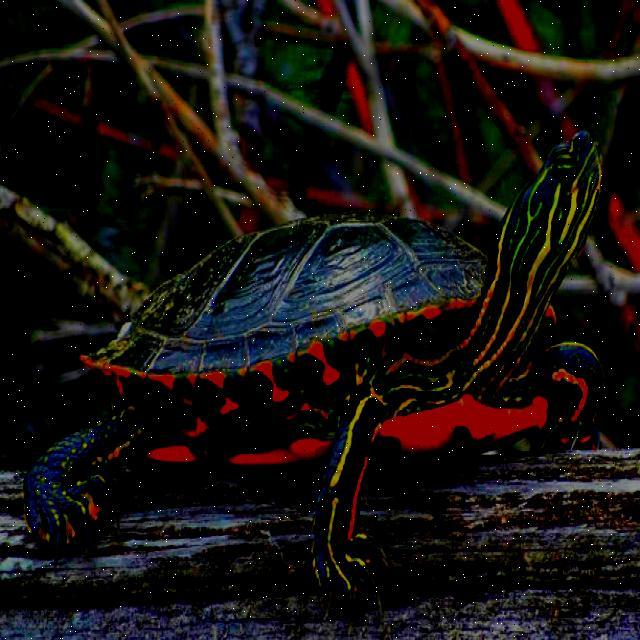tortoise: (20, 132, 618, 594)
